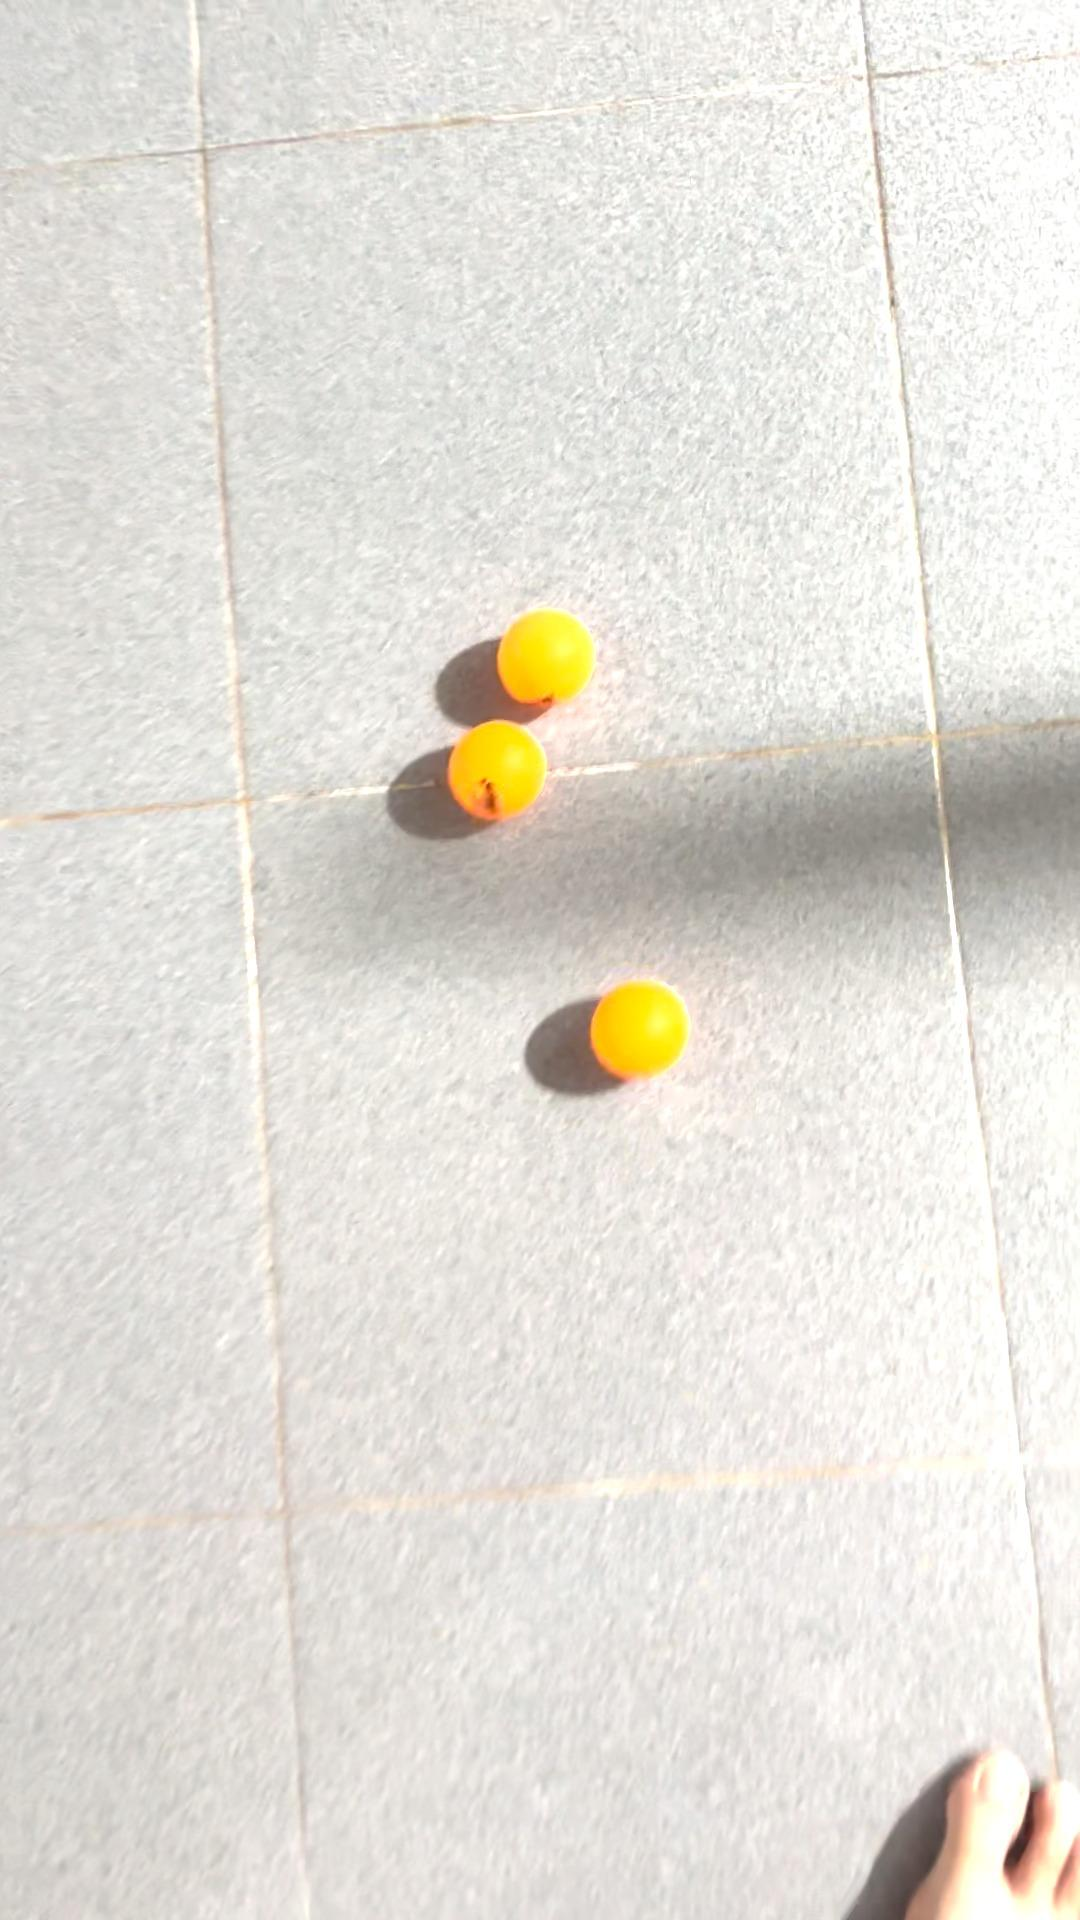oball: (588, 964, 691, 1097), (491, 604, 607, 720), (438, 719, 553, 831)
